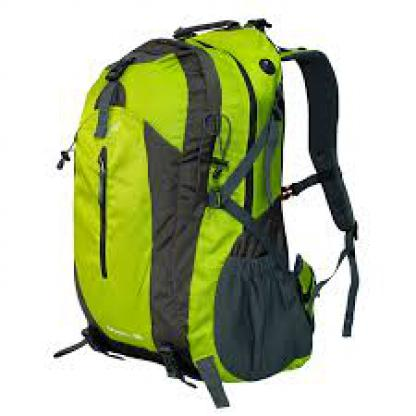morral: (50, 2, 375, 408)
